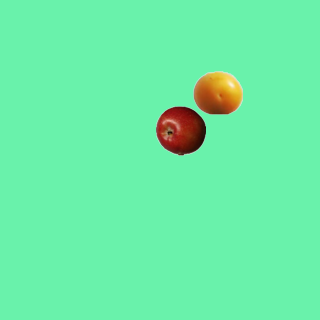Apple Braeburn: (155, 105, 205, 155)
Cherry Wax Yellow: (192, 67, 242, 117)
